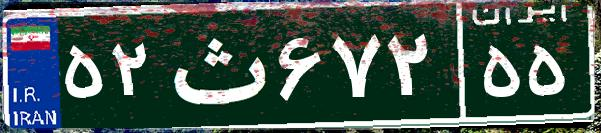2: (385, 28, 445, 110), (110, 28, 158, 105)
5: (57, 26, 110, 107), (475, 38, 525, 113), (525, 38, 570, 115)
6: (273, 28, 330, 110)
7: (330, 28, 385, 110)
ث: (158, 15, 273, 115)
